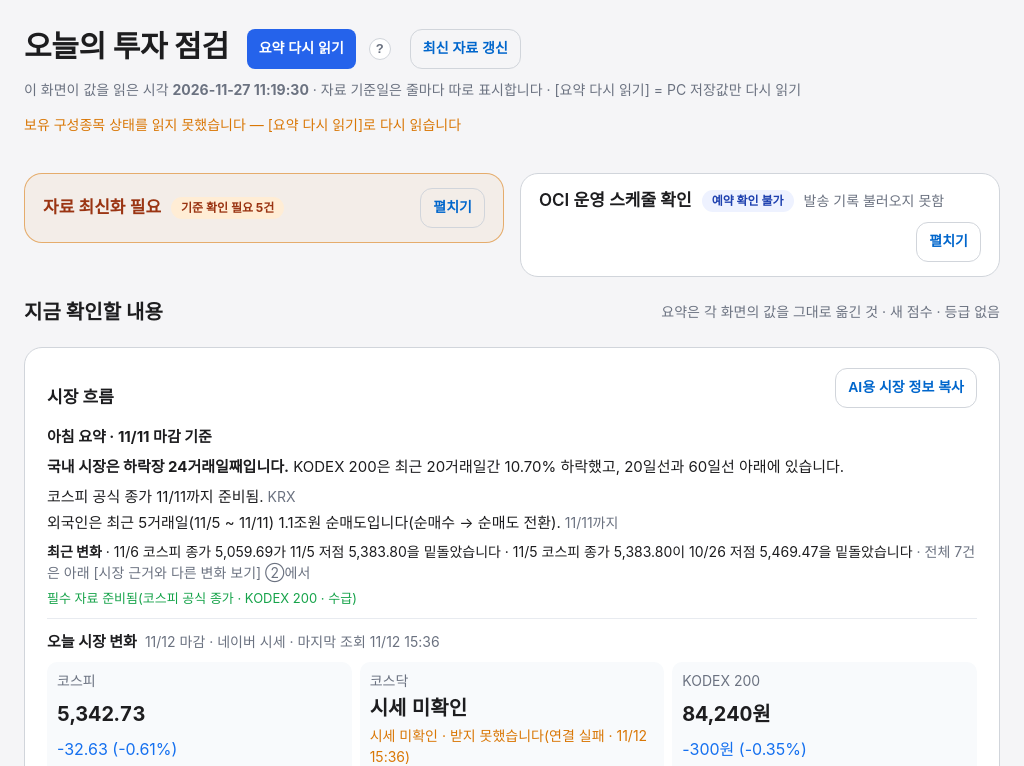
Test case: 보완 R2 — [최신 자료 갱신] ⓪ 빠른 시세 · 시장 대기 · 같은 거래일 다시 받음 › ⓪ 결과 = 조회 성공 · 시세 변동 없음 / 한 항목 실패는 그 항목의 마지막 시세 시각 또는 '시세 미확인'
This screenshot has width=1024, height=766.
Click the button "최신 자료 갱신" at (465, 48), box [410, 28, 521, 68]
Wait 1600 ms
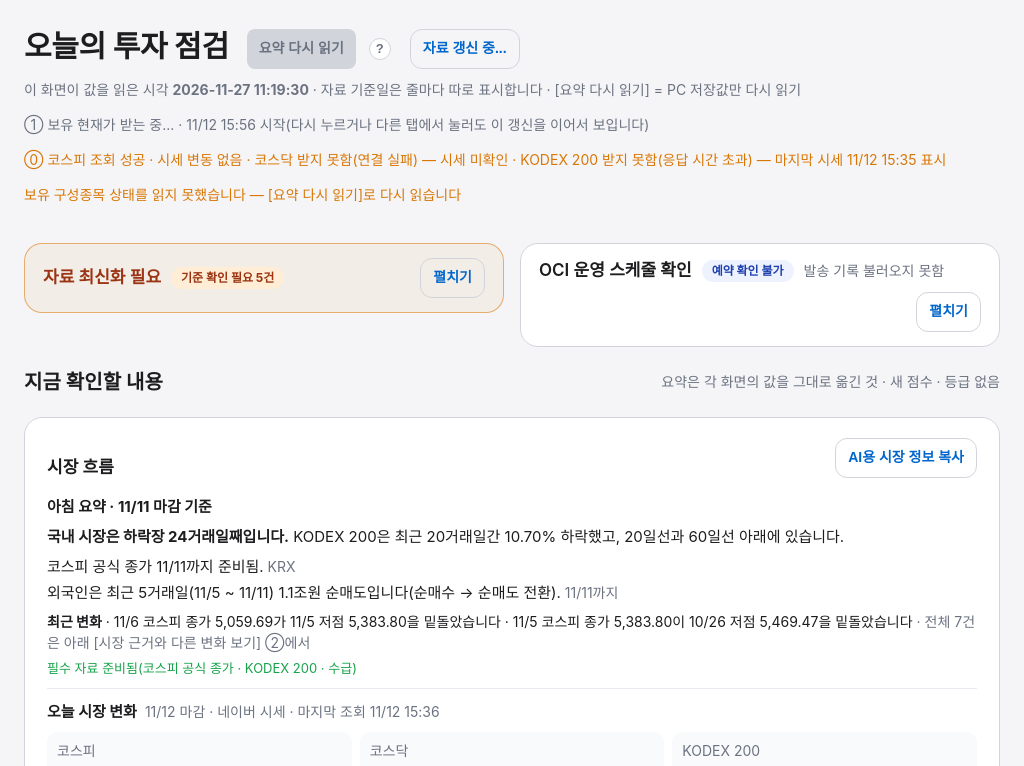
Check: the text with test id "tc-quick-result" shows "⓪ 코스피 조회 성공 · 시세 변동 없음 · 코스닥 받지 못함(연결 실패) — 시세 미확인 · KODEX 200 받지 못함(응답 시간 초과) — 마지막 시세 11/12 15:35 표시", box [24, 151, 946, 168]
